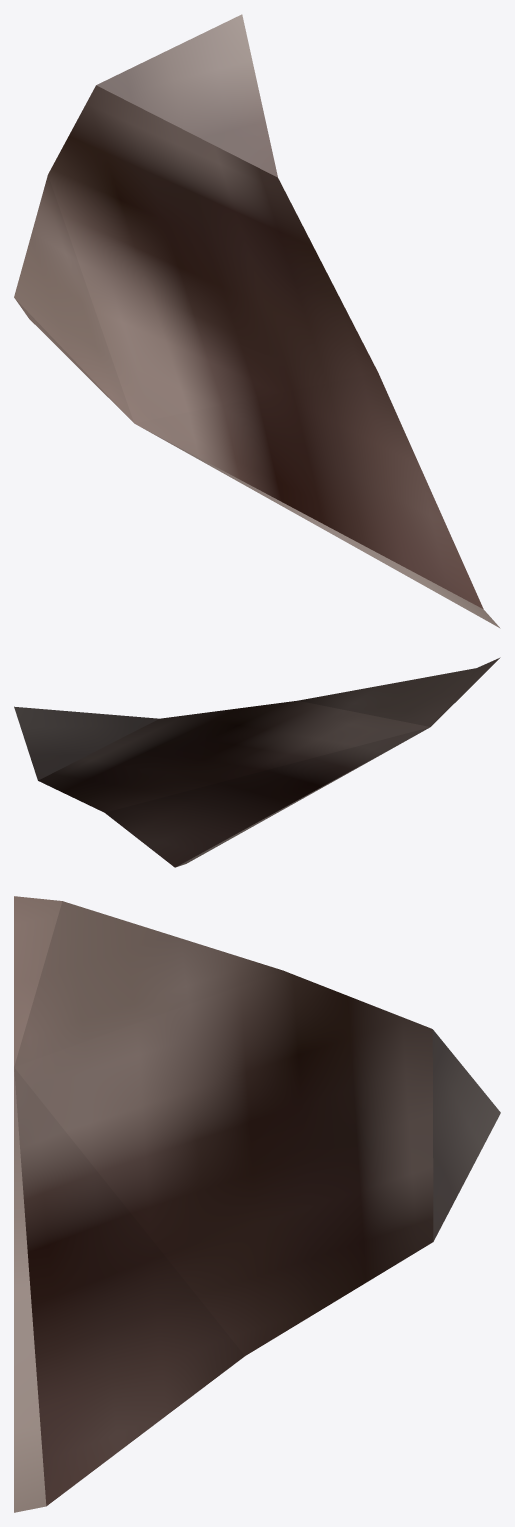
3 views of the same model, one above another, from view 1: azimuth 30°, elevation 25°; view 2: azimuth 150°, elevation 25°; view 3: azimuth 270°, elevation 25° (orthographic). The views are drawn at different scales.
Bounding box in the file's own units: 0.0277 × 0.0239 × 0.0263.
1 material, 1 textured.
